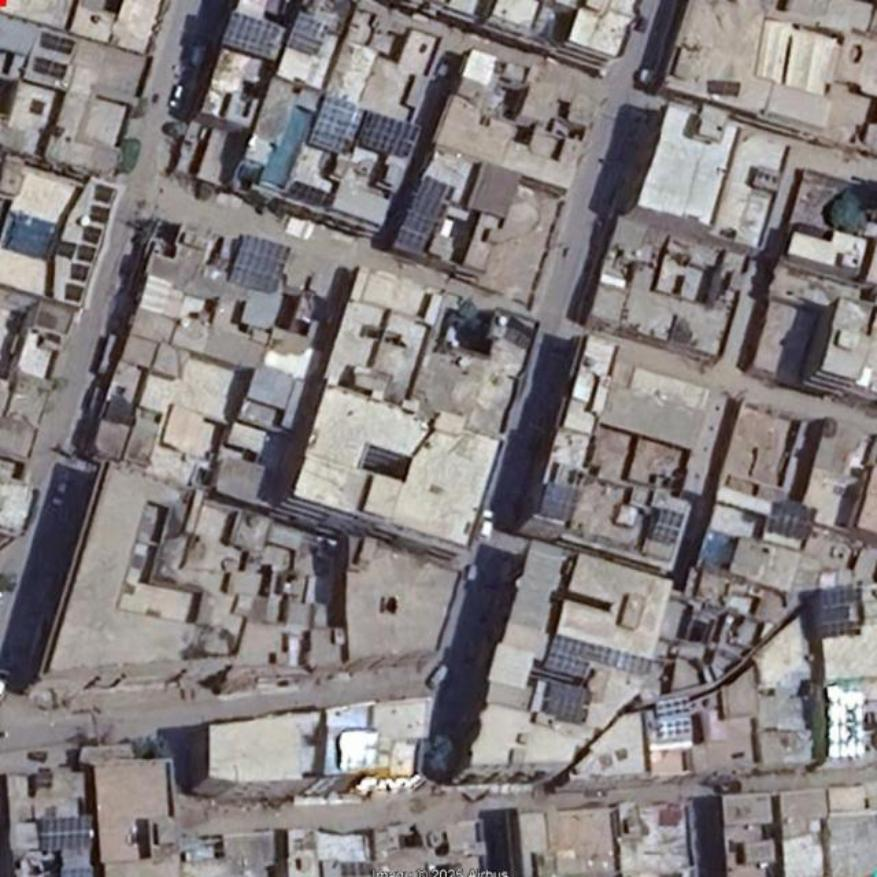Solarpanel: (399, 175, 454, 255), (552, 635, 651, 673), (230, 233, 289, 293), (308, 94, 367, 151), (220, 10, 280, 57), (361, 112, 420, 157), (820, 586, 862, 636), (539, 682, 587, 724), (770, 499, 816, 542), (39, 818, 93, 854), (290, 10, 328, 56), (544, 652, 588, 681), (650, 511, 684, 543), (29, 57, 68, 76), (41, 33, 77, 52), (95, 185, 113, 205), (64, 284, 84, 301), (54, 241, 74, 258), (82, 227, 100, 242), (90, 206, 109, 220), (74, 265, 90, 280), (78, 247, 93, 261)
